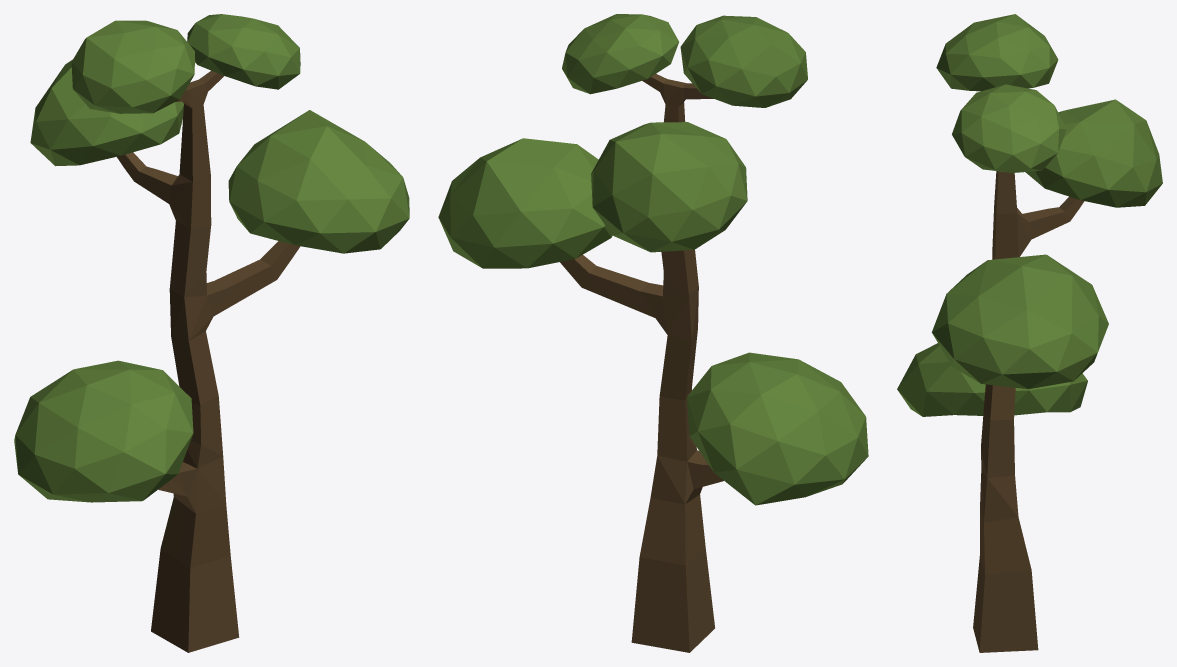
File: Tree_31.fbx
The picture shows the model from 3 angles, left to right: view 1: azimuth 30°, elevation 25°; view 2: azimuth 150°, elevation 25°; view 3: azimuth 270°, elevation 25°; orthographic projection. The views are drawn at different scales.
Visible parts, largest first — view 1: Tree_31; view 2: Tree_31; view 3: Tree_31.
Part boxes in pixels (bbox=[...]): Tree_31: bbox=[14, 14, 409, 652]; Tree_31: bbox=[438, 14, 868, 652]; Tree_31: bbox=[897, 14, 1162, 652].
Bounding box in the file's own units: 238 × 367 × 152.
